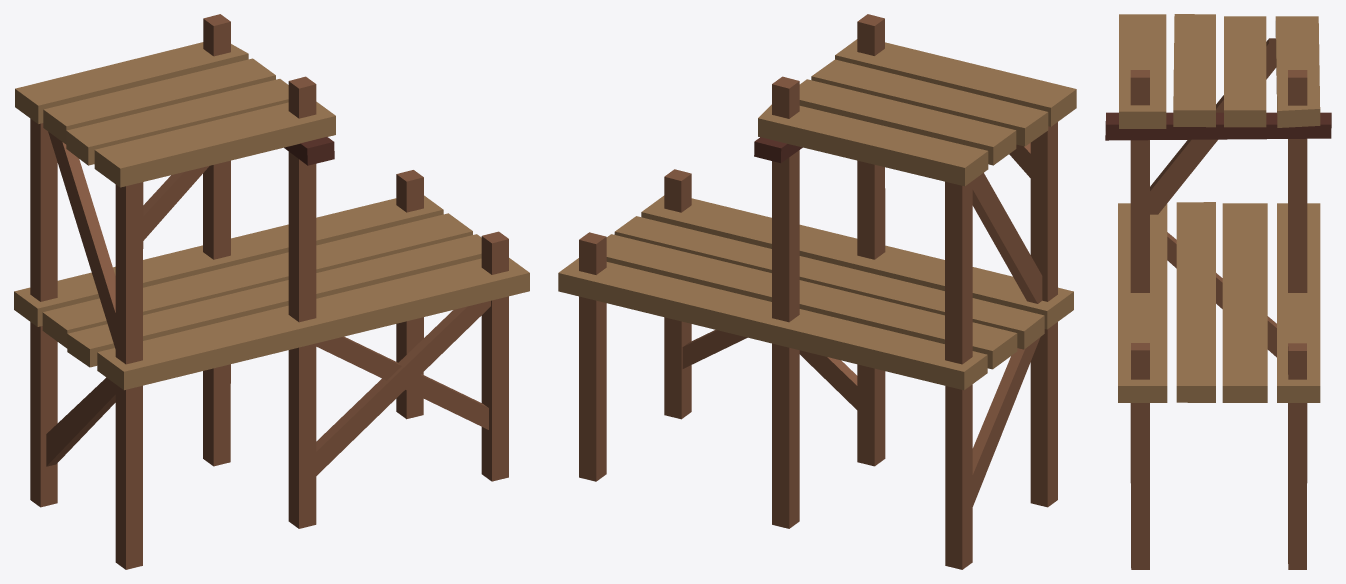
The model's file is Scaffolding_01.fbx.
3 renders of one model, left to right at view 1: azimuth 30°, elevation 25°; view 2: azimuth 150°, elevation 25°; view 3: azimuth 270°, elevation 25°, orthographic. The views are drawn at different scales.
Visible parts, largest first — view 1: Scaffolding_01; view 2: Scaffolding_01; view 3: Scaffolding_01.
Part boxes in pixels (x1,y1,x2,y2): Scaffolding_01: (14,14,529,569); Scaffolding_01: (558,14,1076,569); Scaffolding_01: (1105,14,1331,569).
Bounding box in the file's own units: 421 × 431 × 218.
